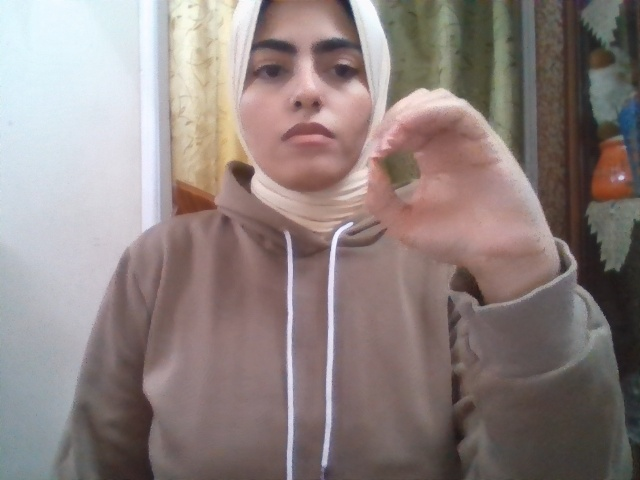O: (365, 87, 550, 263)
